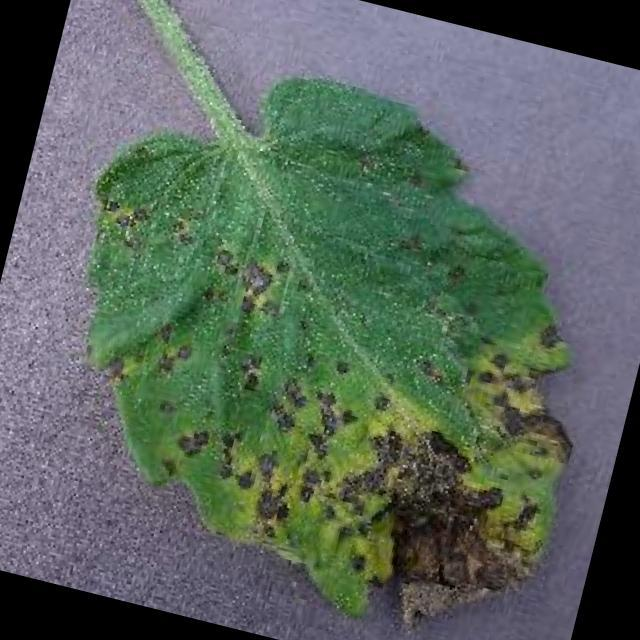Tomato Septoria spot leaf: (11, 30, 640, 640)
